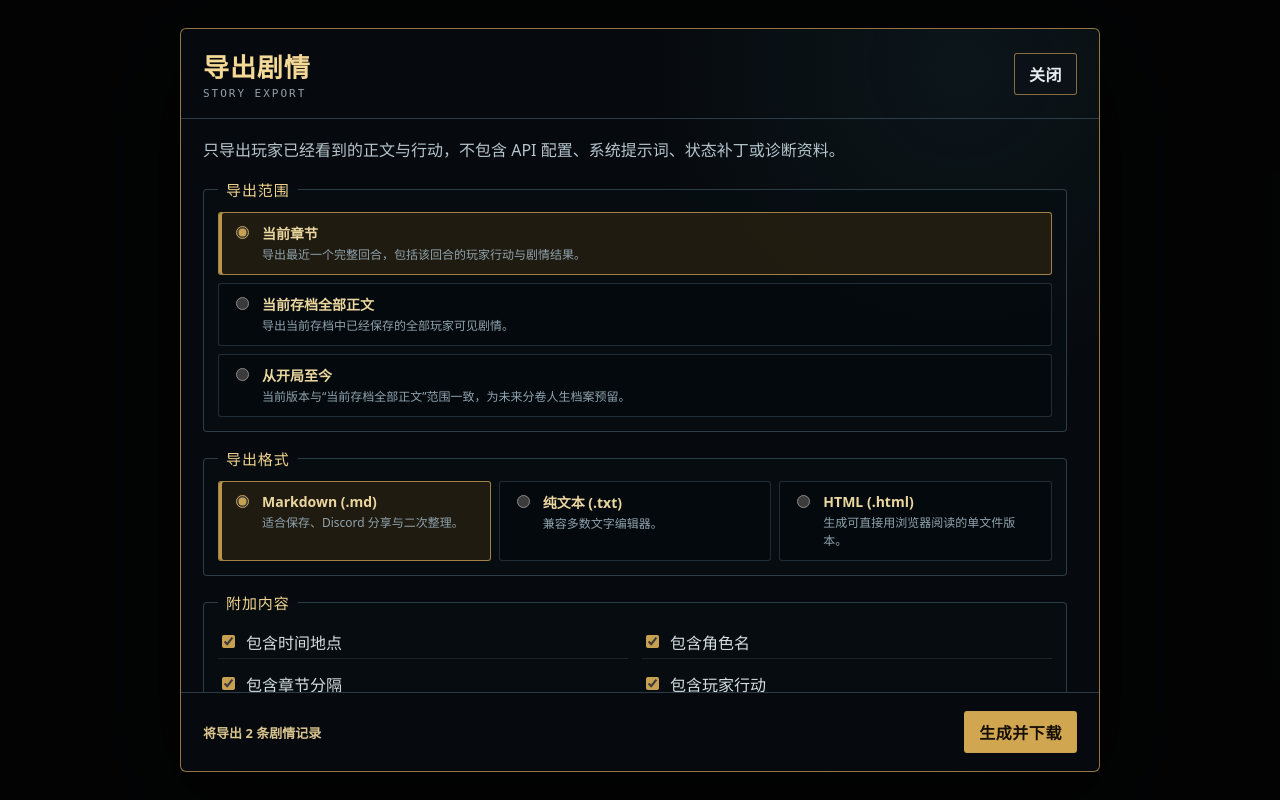
Scenario: StoryExportModal › passes the selected range, format, and optional content to the download
The image size is (1280, 800).
What coordinates should you click on to do the following:
click the radio button labelled "当前存档全部正文 导出当前存档中已经保存的全部玩家可见剧情。"
I would click on:
 (242, 304)
Its box is x1=236 y1=297 x2=249 y2=310.
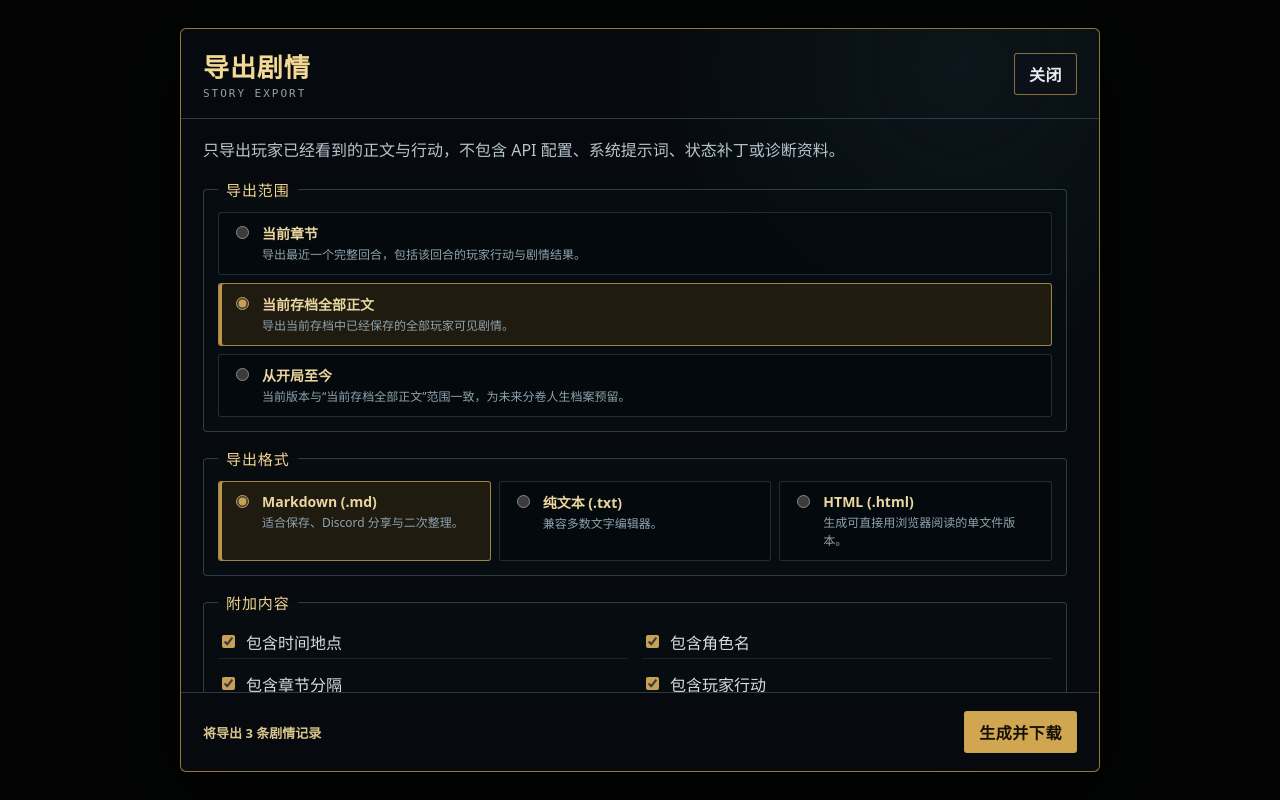
What coordinates should you click on to do the following:
click the radio button labelled "纯文本 (.txt) 兼容多数文字编辑器。"
I would click on:
 (523, 502)
Its box is x1=517 y1=495 x2=530 y2=508.
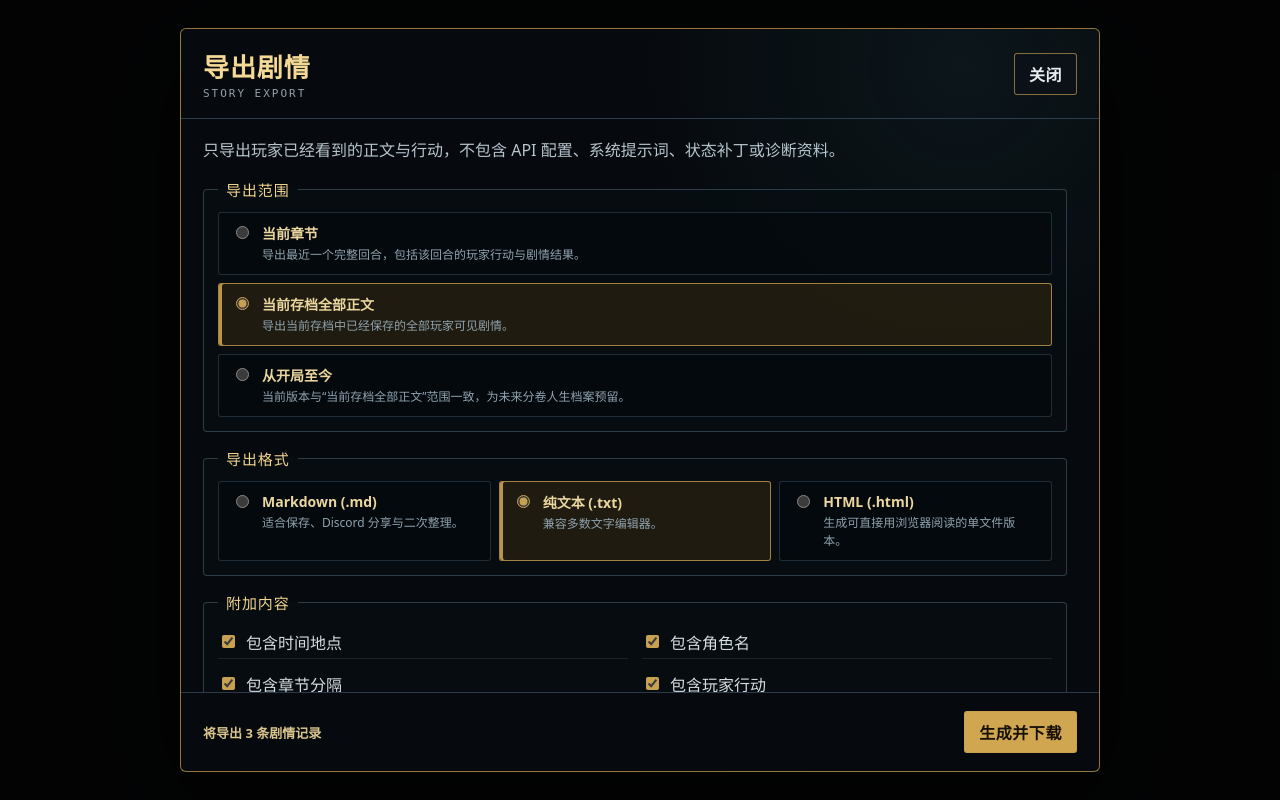
What coordinates should you click on to do the following:
click the checkbox labelled "包含玩家行动"
I would click on:
 (652, 684)
Its box is x1=646 y1=677 x2=659 y2=690.
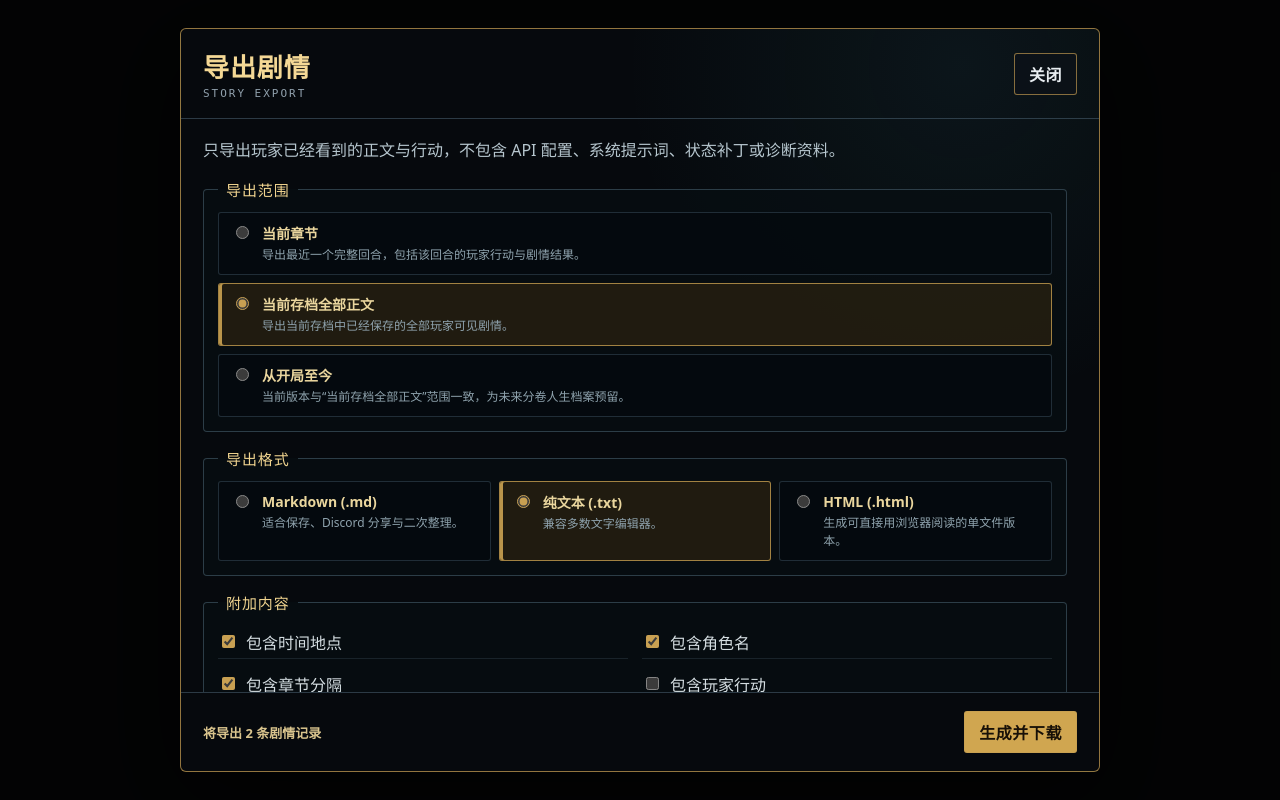
What coordinates should you click on to do the following:
click the checkbox labelled "包含角色名"
I would click on:
 (652, 642)
Its box is x1=646 y1=635 x2=659 y2=648.
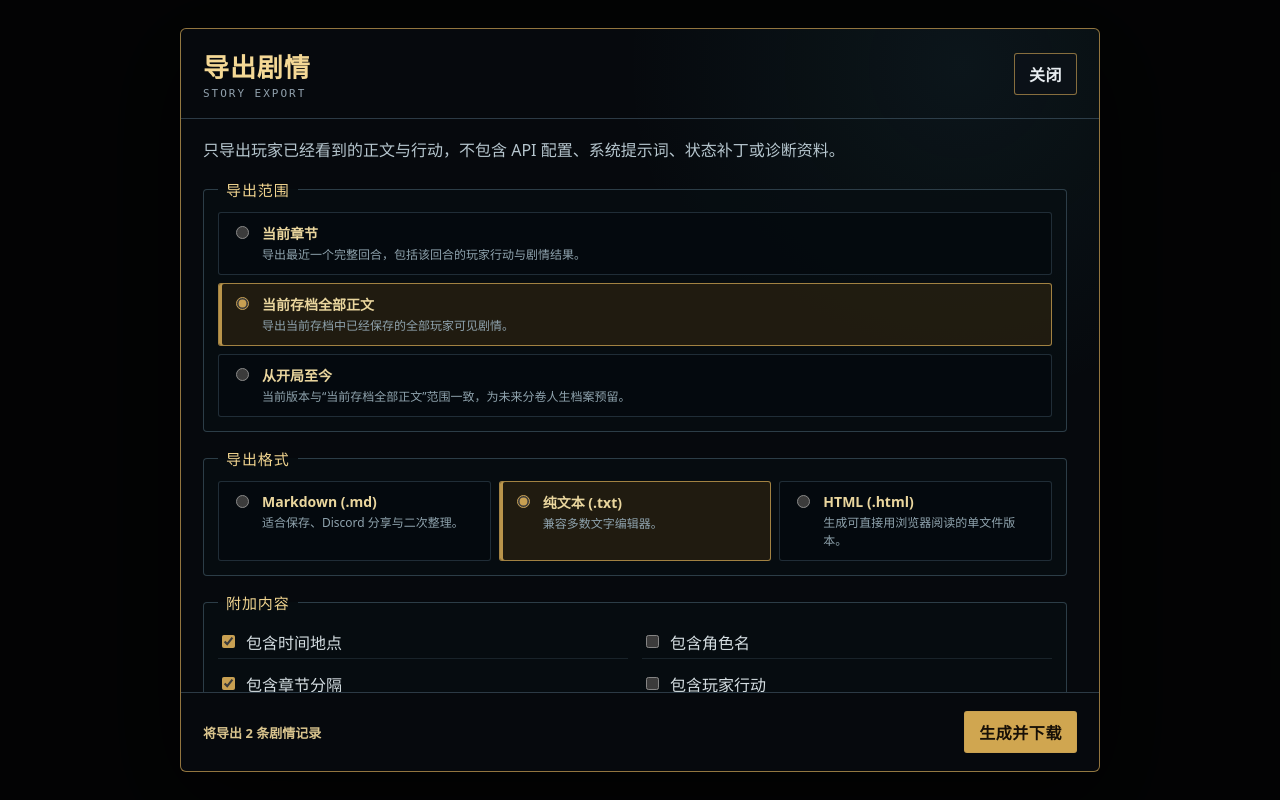
Expected: the text "将导出 2 条剧情记录" is shown, x1=203 y1=722 x2=321 y2=742
What coordinates should you click on to do the following:
click the button "生成并下载"
I would click on:
 (1021, 732)
Its box is x1=964 y1=711 x2=1077 y2=753.
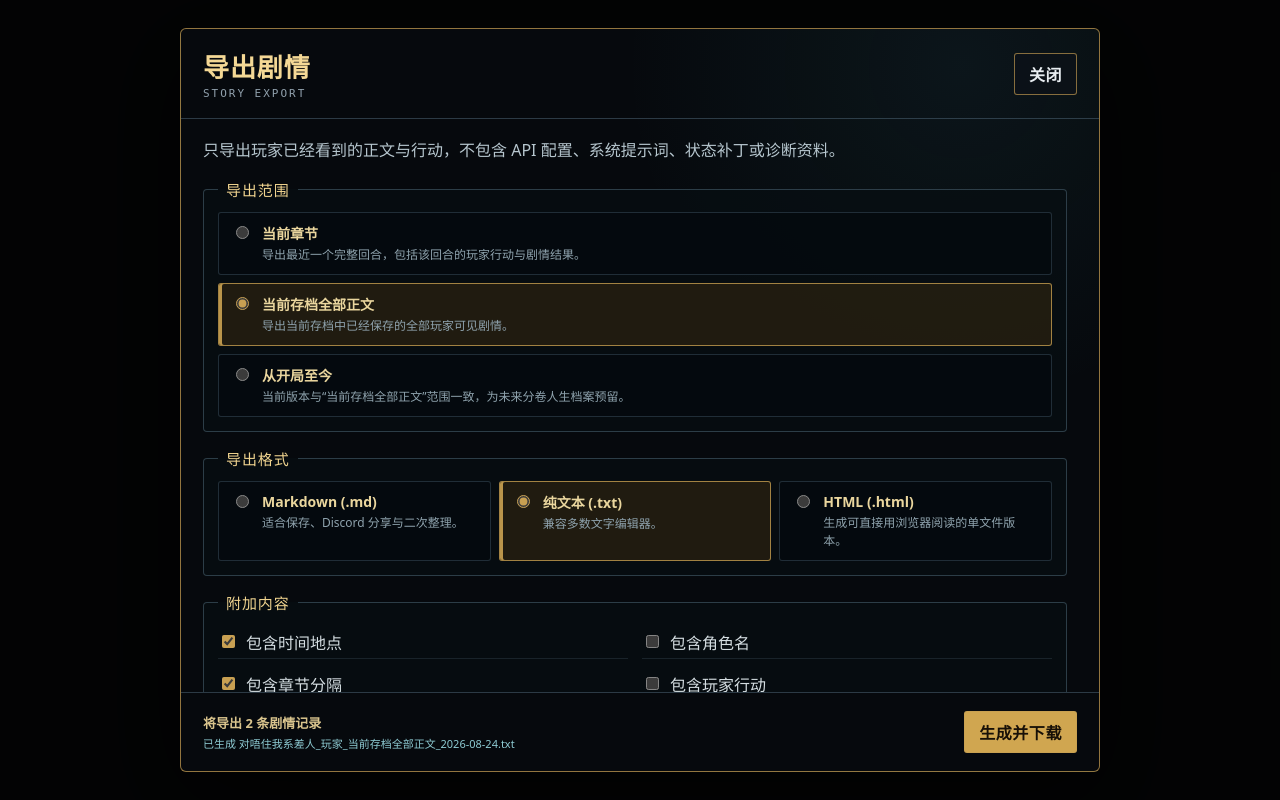
Expected: the message shows "已生成", x1=203 y1=736 x2=515 y2=751
